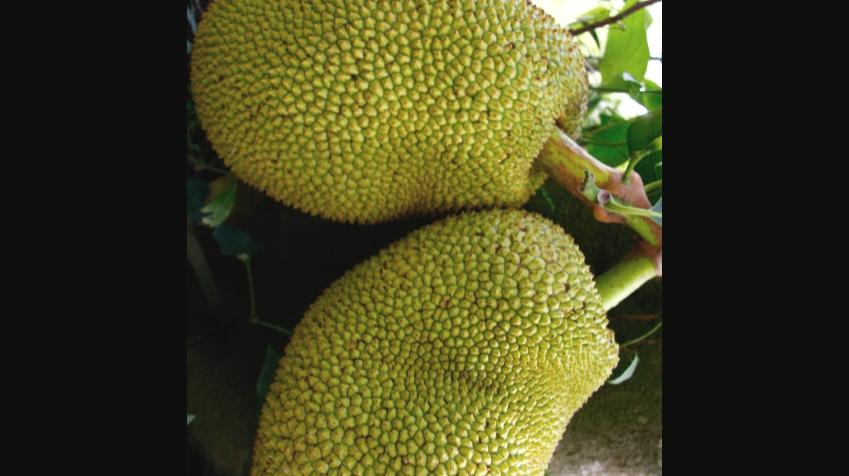mit: (248, 209, 620, 476), (191, 0, 591, 219)
